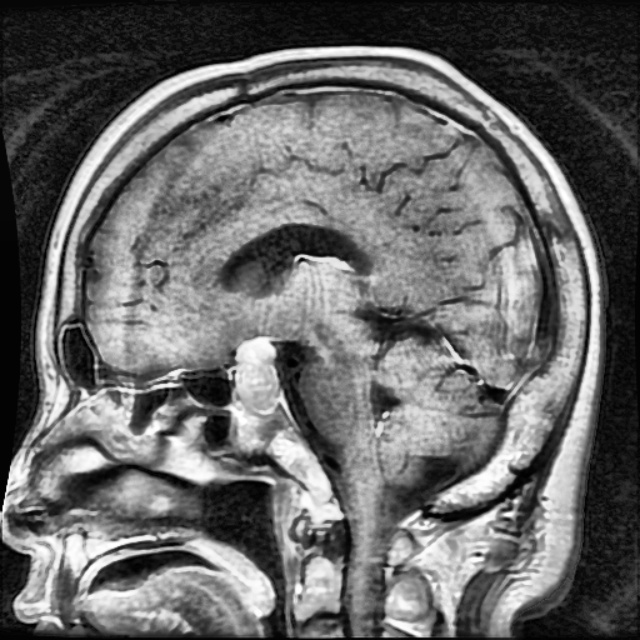Pituitary: (235, 339, 279, 410)
